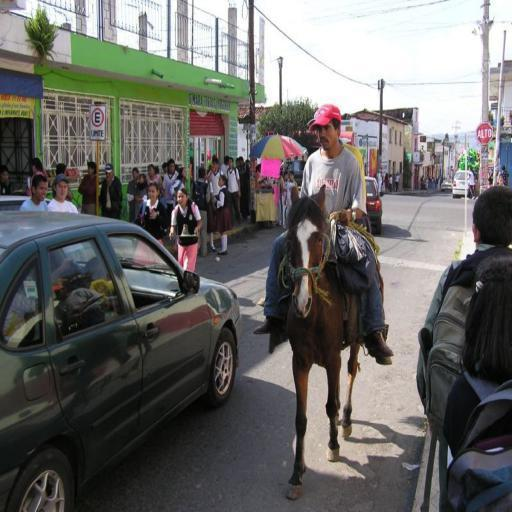horse: (284, 184, 384, 504)
